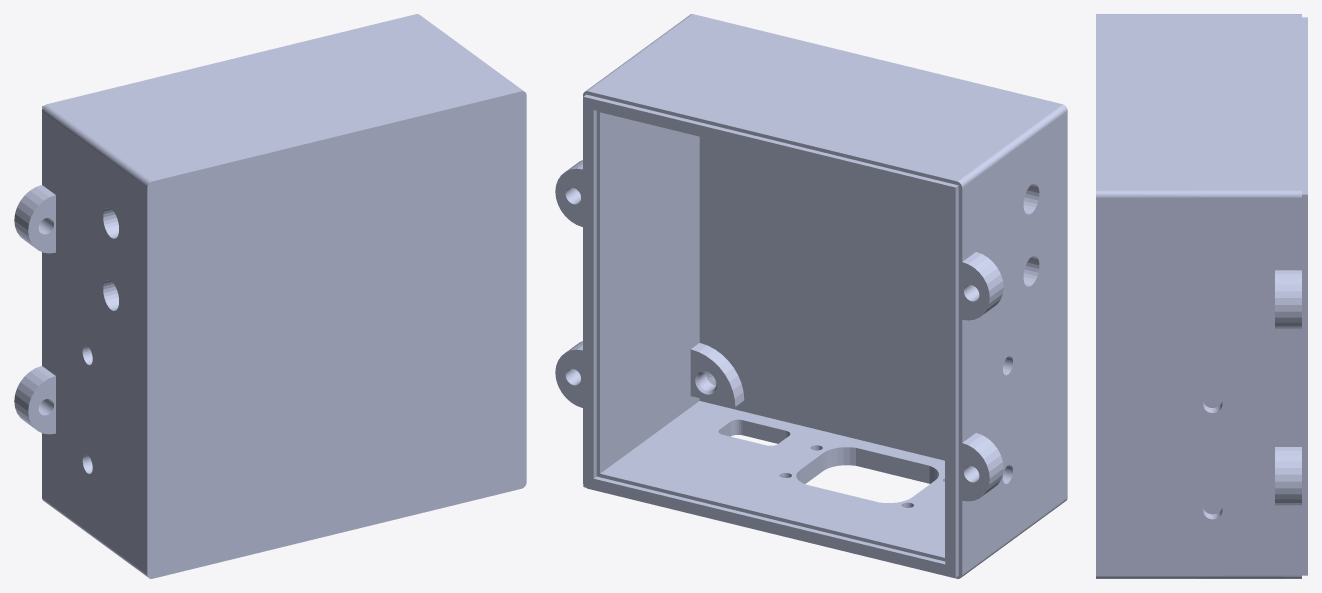
Rendered from Telem_Base.glb.
The picture shows the model from 3 angles, left to right: view 1: azimuth 30°, elevation 25°; view 2: azimuth 150°, elevation 25°; view 3: azimuth 270°, elevation 25°; orthographic projection. The views are drawn at different scales.
Visible parts, largest first — view 1: world; view 2: world; view 3: world.
Part boxes in pixels (bbox=[...]): world: bbox=[14, 14, 526, 578]; world: bbox=[555, 14, 1067, 578]; world: bbox=[1096, 14, 1307, 578].
Size of the model in its own units: 126 by 110 by 54.5.
